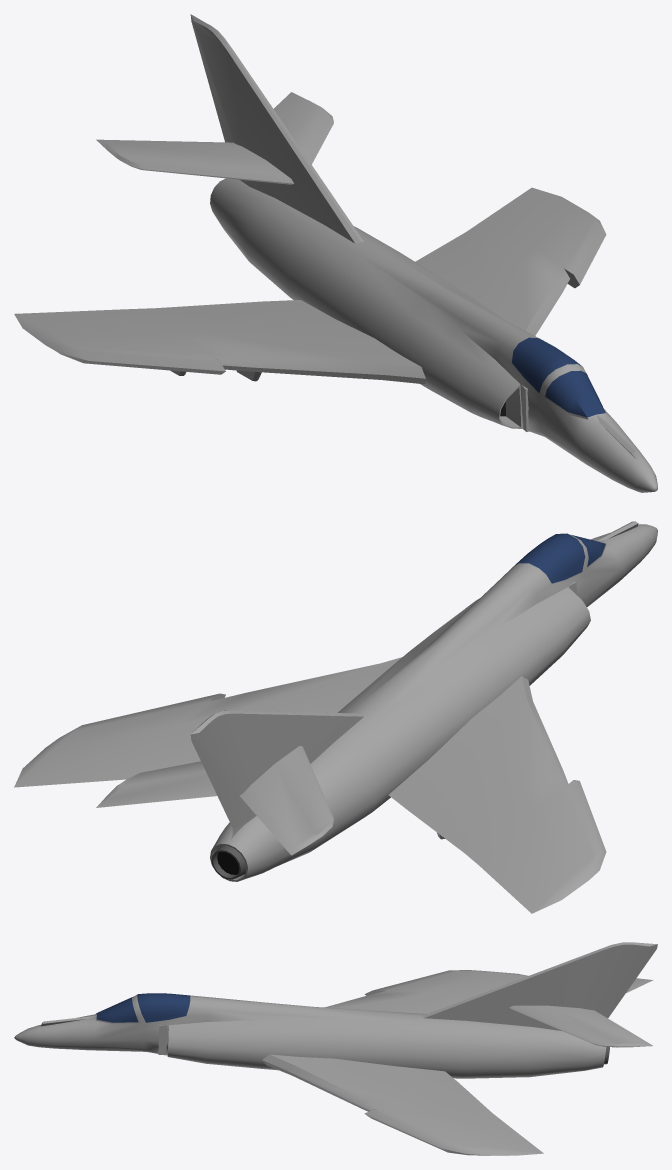
File: SUPER_ETENDARD.glb
3 views of the same model, one above another, from view 1: azimuth 30°, elevation 25°; view 2: azimuth 150°, elevation 25°; view 3: azimuth 270°, elevation 25° (orthographic). The views are drawn at different scales.
Visible parts, largest first — view 1: super_etendard; view 2: super_etendard; view 3: super_etendard.
Part boxes in pixels (<box>): super_etendard: <box>14,14,657,492</box>; super_etendard: <box>14,521,657,913</box>; super_etendard: <box>14,942,657,1155</box>.
Size of the model in its own units: 9.64 by 3.26 by 14.3.
